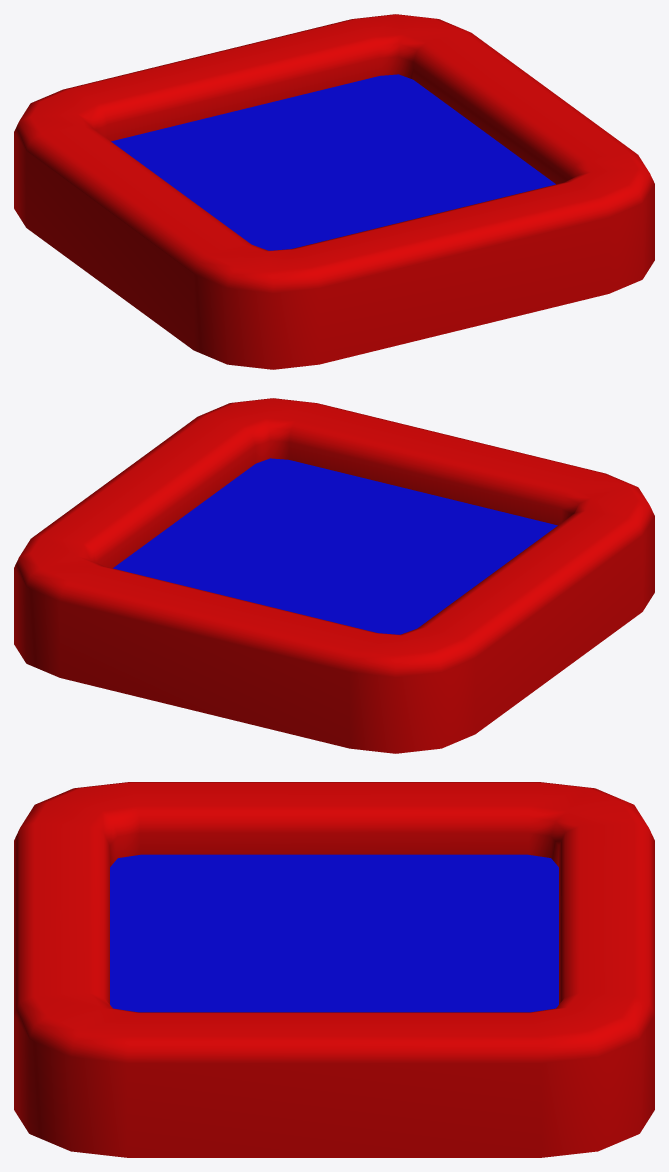
The picture shows the model from 3 angles, top to bottom: view 1: azimuth 30°, elevation 25°; view 2: azimuth 150°, elevation 25°; view 3: azimuth 270°, elevation 25°; orthographic projection. The views are drawn at different scales.
Parts seen in each view (by area): view 1: 1x1; view 2: 1x1; view 3: 1x1.
Part boxes in pixels (x1,y1,x2,y2): 1x1: (14,14,654,369); 1x1: (14,398,654,753); 1x1: (14,782,654,1157).
Bounding box in the file's own units: 200 × 38.86 × 200.
